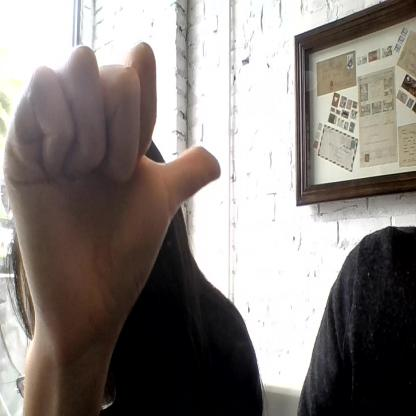left: (3, 42, 222, 312)
